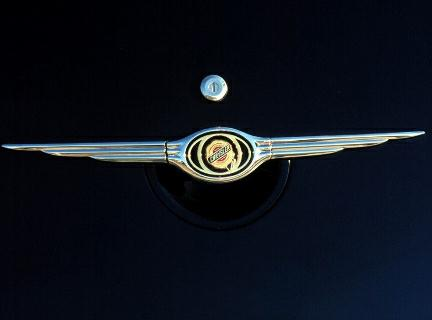雷克萨斯-ES: (4, 2, 432, 315)
